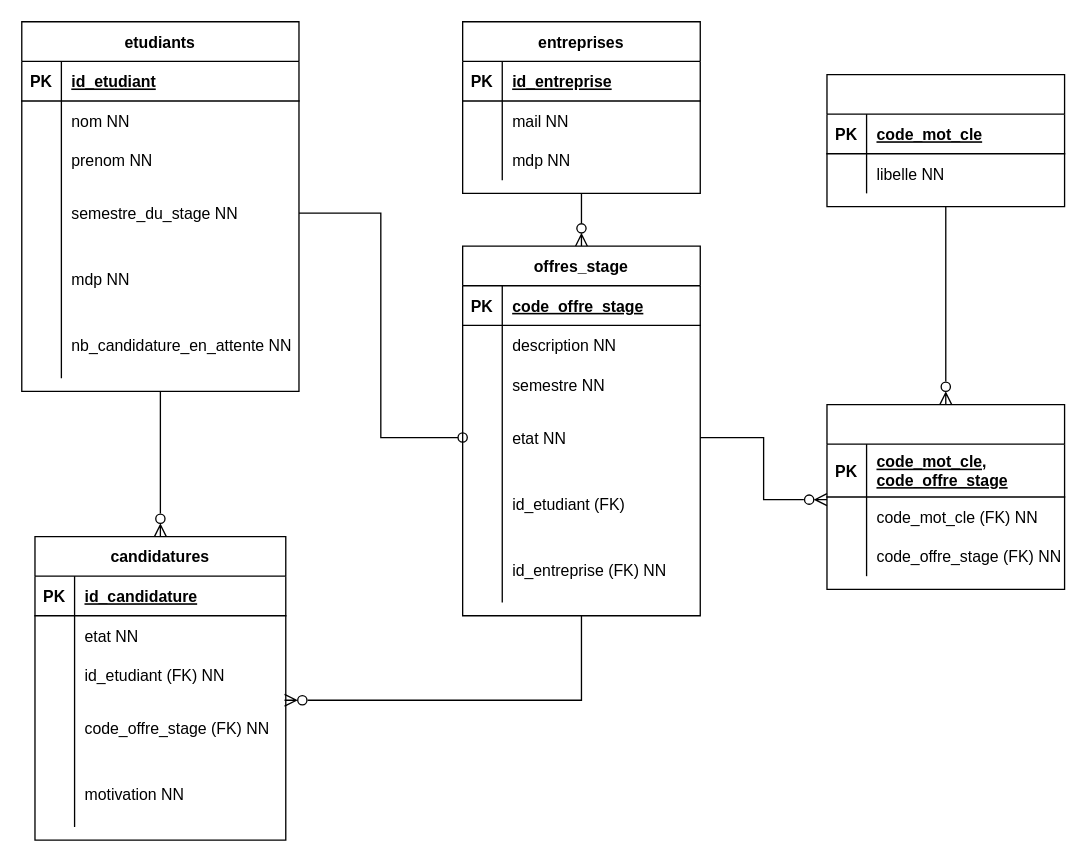
This 1086x862 diagram has some shape labels left out. Each missing label, with the box of its shape:
mot_cles: (826, 73, 1065, 207)
mots_cle_stage: (826, 403, 1065, 589)
